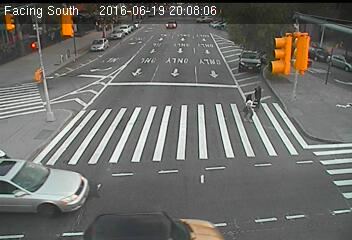neg: (1, 83, 26, 115), (208, 28, 230, 57), (162, 35, 183, 63), (80, 37, 100, 63)
pos: (237, 91, 260, 122), (249, 80, 268, 107)
